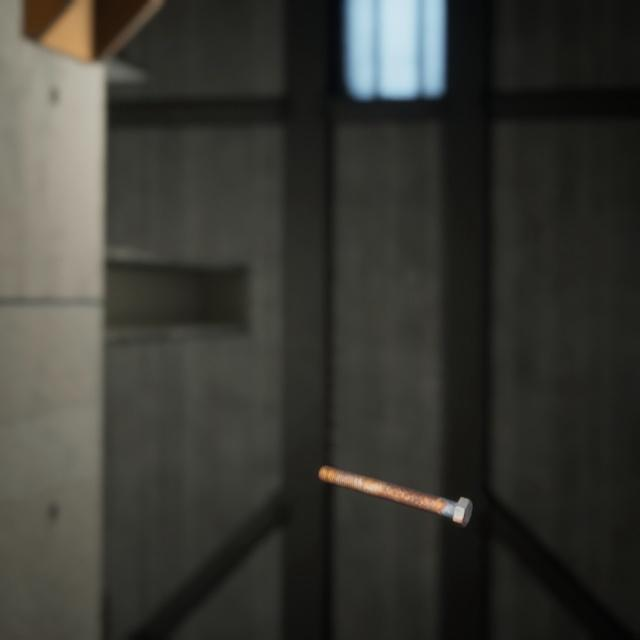bolt: (314, 441, 477, 511)
